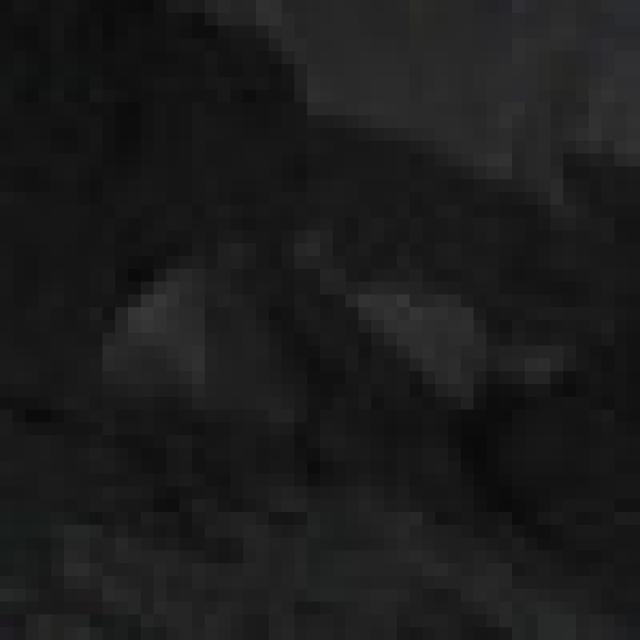no_fire: (4, 6, 638, 604)
